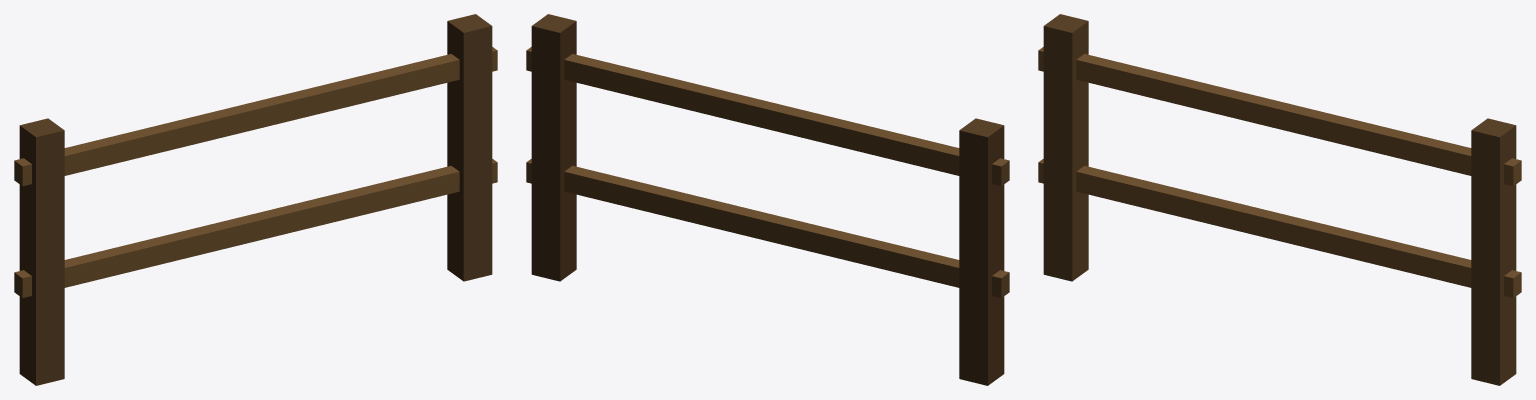
Rendered from fence.glb.
3 views of the same model, side by side, from view 1: azimuth 30°, elevation 25°; view 2: azimuth 150°, elevation 25°; view 3: azimuth 330°, elevation 25° (orthographic).
Visible parts, largest first — view 1: scenery; view 2: scenery; view 3: scenery.
Part boxes in pixels (<box>): scenery: <box>14,14,497,385</box>; scenery: <box>526,14,1009,385</box>; scenery: <box>1038,14,1521,385</box>.
Size of what is drawn, in the model's own units: 2 by 1 by 0.12.
